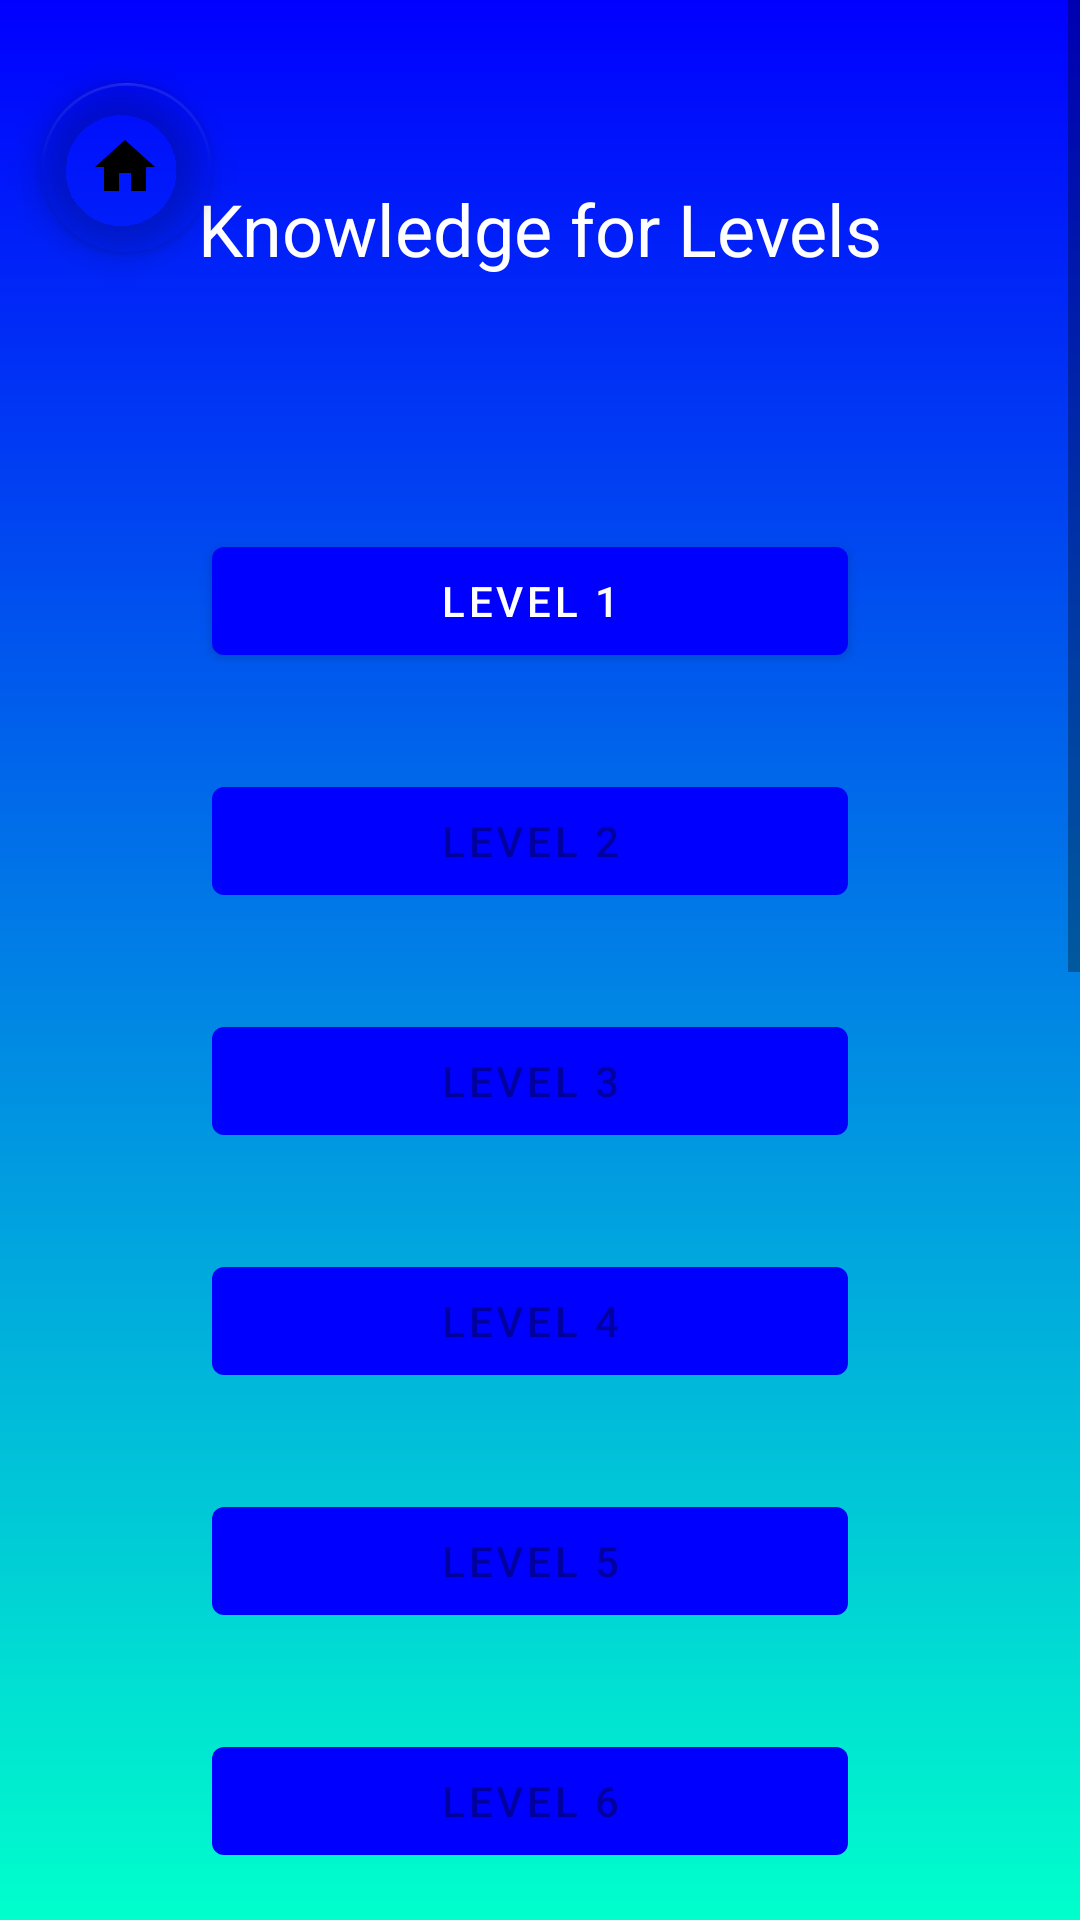

Icon bounding boxes for this 1080w x 1920h phone screenshot, format bbox=[x1, y1, x2, y2]:
home: bbox=[41, 83, 212, 254]
